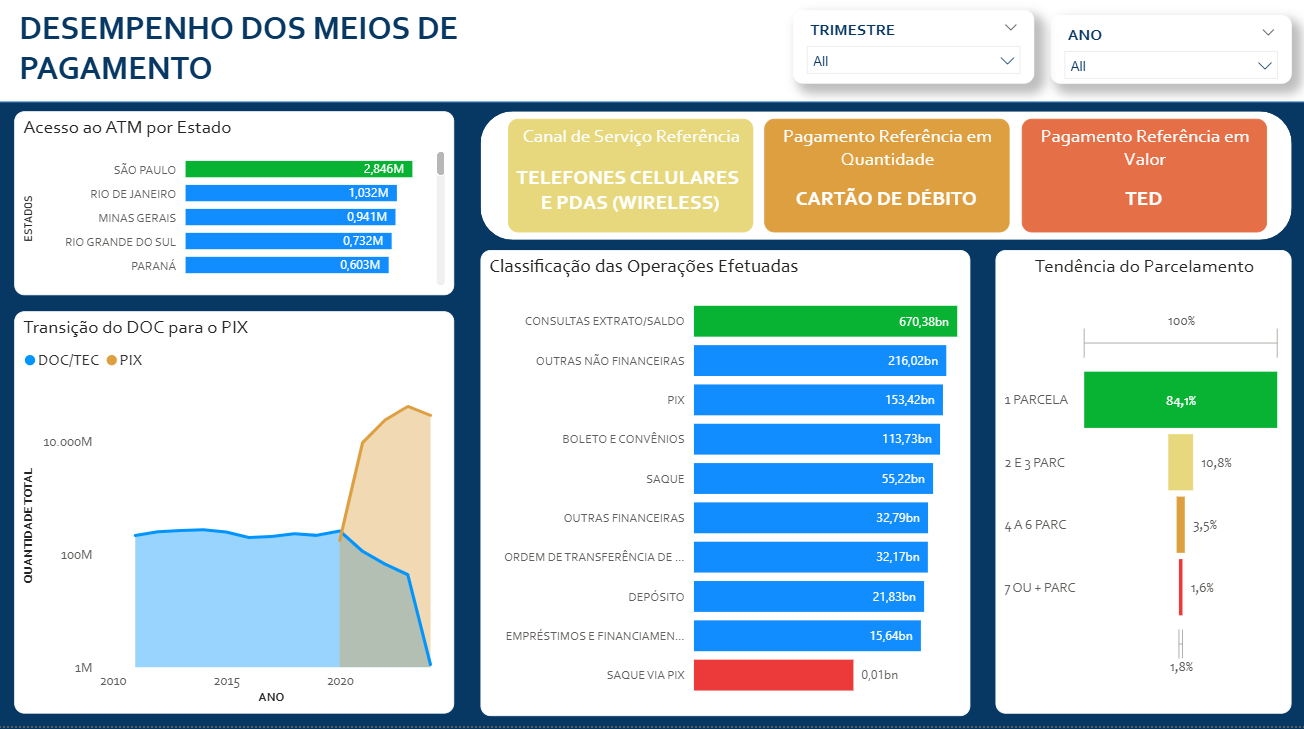

This screenshot's page, from the dashboard's own definition file:
{"tool":"powerbi","page":{"name":"Duplicate of Page 1","canvas":[1280,720],"ordinal":0},"visuals":[{"type":"shape","box":[0,7.3,1280.3,102.7],"z":500},{"type":"shape","box":[472,118.6,793.6,126],"z":750},{"type":"card","title":"Pagamento Referência em Valor","fields":{"Values":["Min(MOVIMENTAÇÃO DOS PAGAMENTOS.MEIOS DE PAGAMENTO)"]},"box":[1001.5,126,239.7,111.3],"z":1000},{"type":"card","title":"Pagamento Referência em Quantidade","fields":{"Values":["Min(MOVIMENTAÇÃO DOS PAGAMENTOS.MEIOS DE PAGAMENTO)"]},"box":[749.6,126,239.7,111.3],"z":2000},{"type":"card","title":"Canal de Serviço Referência","fields":{"Values":["Min(Canal de Serviço - Quantidade.CANAL DE SERVIÇO)"]},"box":[498.9,126,239.7,111.3],"z":3000},{"type":"barChart","title":"Classificação das Operações Efetuadas","fields":{"Category":["Operação por Serviço - Quantidade.OPERAÇÃO"],"Y":["Sum(Operação por Serviço - Quantidade.QUANTIDADE)"]},"box":[472,254.3,479.4,456.1],"z":4000},{"type":"funnel","title":"Tendência do Parcelamento","fields":{"Category":["Parcelamento - Quantidade.PARCELAS"],"Y":["Avg(Parcelamento - Quantidade.QUANTIDADE)"]},"box":[975.8,254.3,289.8,453.7],"z":5000},{"type":"slicer","fields":{"Values":["MOVIMENTAÇÃO DOS PAGAMENTOS.ANO"]},"box":[1029.6,24.5,236,67.3],"z":6000},{"type":"slicer","fields":{"Values":["MOVIMENTAÇÃO DOS PAGAMENTOS.TRIMESTRE"]},"box":[777.7,19.6,236,72.1],"z":7000},{"type":"lineChart","title":"Transição do DOC para o PIX","fields":{"Category":["MOVIMENTAÇÃO DOS PAGAMENTOS.ANO"],"Series":["MOVIMENTAÇÃO DOS PAGAMENTOS.MEIOS DE PAGAMENTO"],"Y":["MOVIMENTAÇÃO DOS PAGAMENTOS.QUANTIDADE TOTAL"]},"box":[15.9,314.3,430.4,393.8],"z":8000},{"type":"barChart","title":"Acesso ao ATM por Estado","fields":{"Category":["Distribuição de ATM por Estado - Quantidade.ESTADOS"],"Y":["Sum(Distribuição de ATM por Estado - Quantidade.QUANTIDADE)"]},"box":[15.9,118.6,430.4,179.8],"z":9000},{"type":"textbox","title":"DESEMPENHO DOS MEIOS DE PAGAMENTO","box":[15.9,17.1,465.9,83.2],"z":10000}]}

Visuals, with their boxes in screenshot pixels (x1, y1, x2, y2), scaled from the page's 1280x720 canvas onto the 1304x729 screenshot:
shape: x1=0, y1=7, x2=1303, y2=111
shape: x1=481, y1=120, x2=1289, y2=248
"Pagamento Referência em Valor" card: x1=1020, y1=128, x2=1264, y2=240
"Pagamento Referência em Quantidade" card: x1=764, y1=128, x2=1008, y2=240
"Canal de Serviço Referência" card: x1=508, y1=128, x2=752, y2=240
"Classificação das Operações Efetuadas" barChart: x1=481, y1=257, x2=969, y2=719
"Tendência do Parcelamento" funnel: x1=994, y1=257, x2=1289, y2=717
slicer - MOVIMENTAÇÃO DOS PAGAMENTOS.ANO: x1=1049, y1=25, x2=1289, y2=93
slicer - MOVIMENTAÇÃO DOS PAGAMENTOS.TRIMESTRE: x1=792, y1=20, x2=1033, y2=93
"Transição do DOC para o PIX" lineChart: x1=16, y1=318, x2=455, y2=717
"Acesso ao ATM por Estado" barChart: x1=16, y1=120, x2=455, y2=302
"DESEMPENHO DOS MEIOS DE PAGAMENTO" textbox: x1=16, y1=17, x2=491, y2=102
